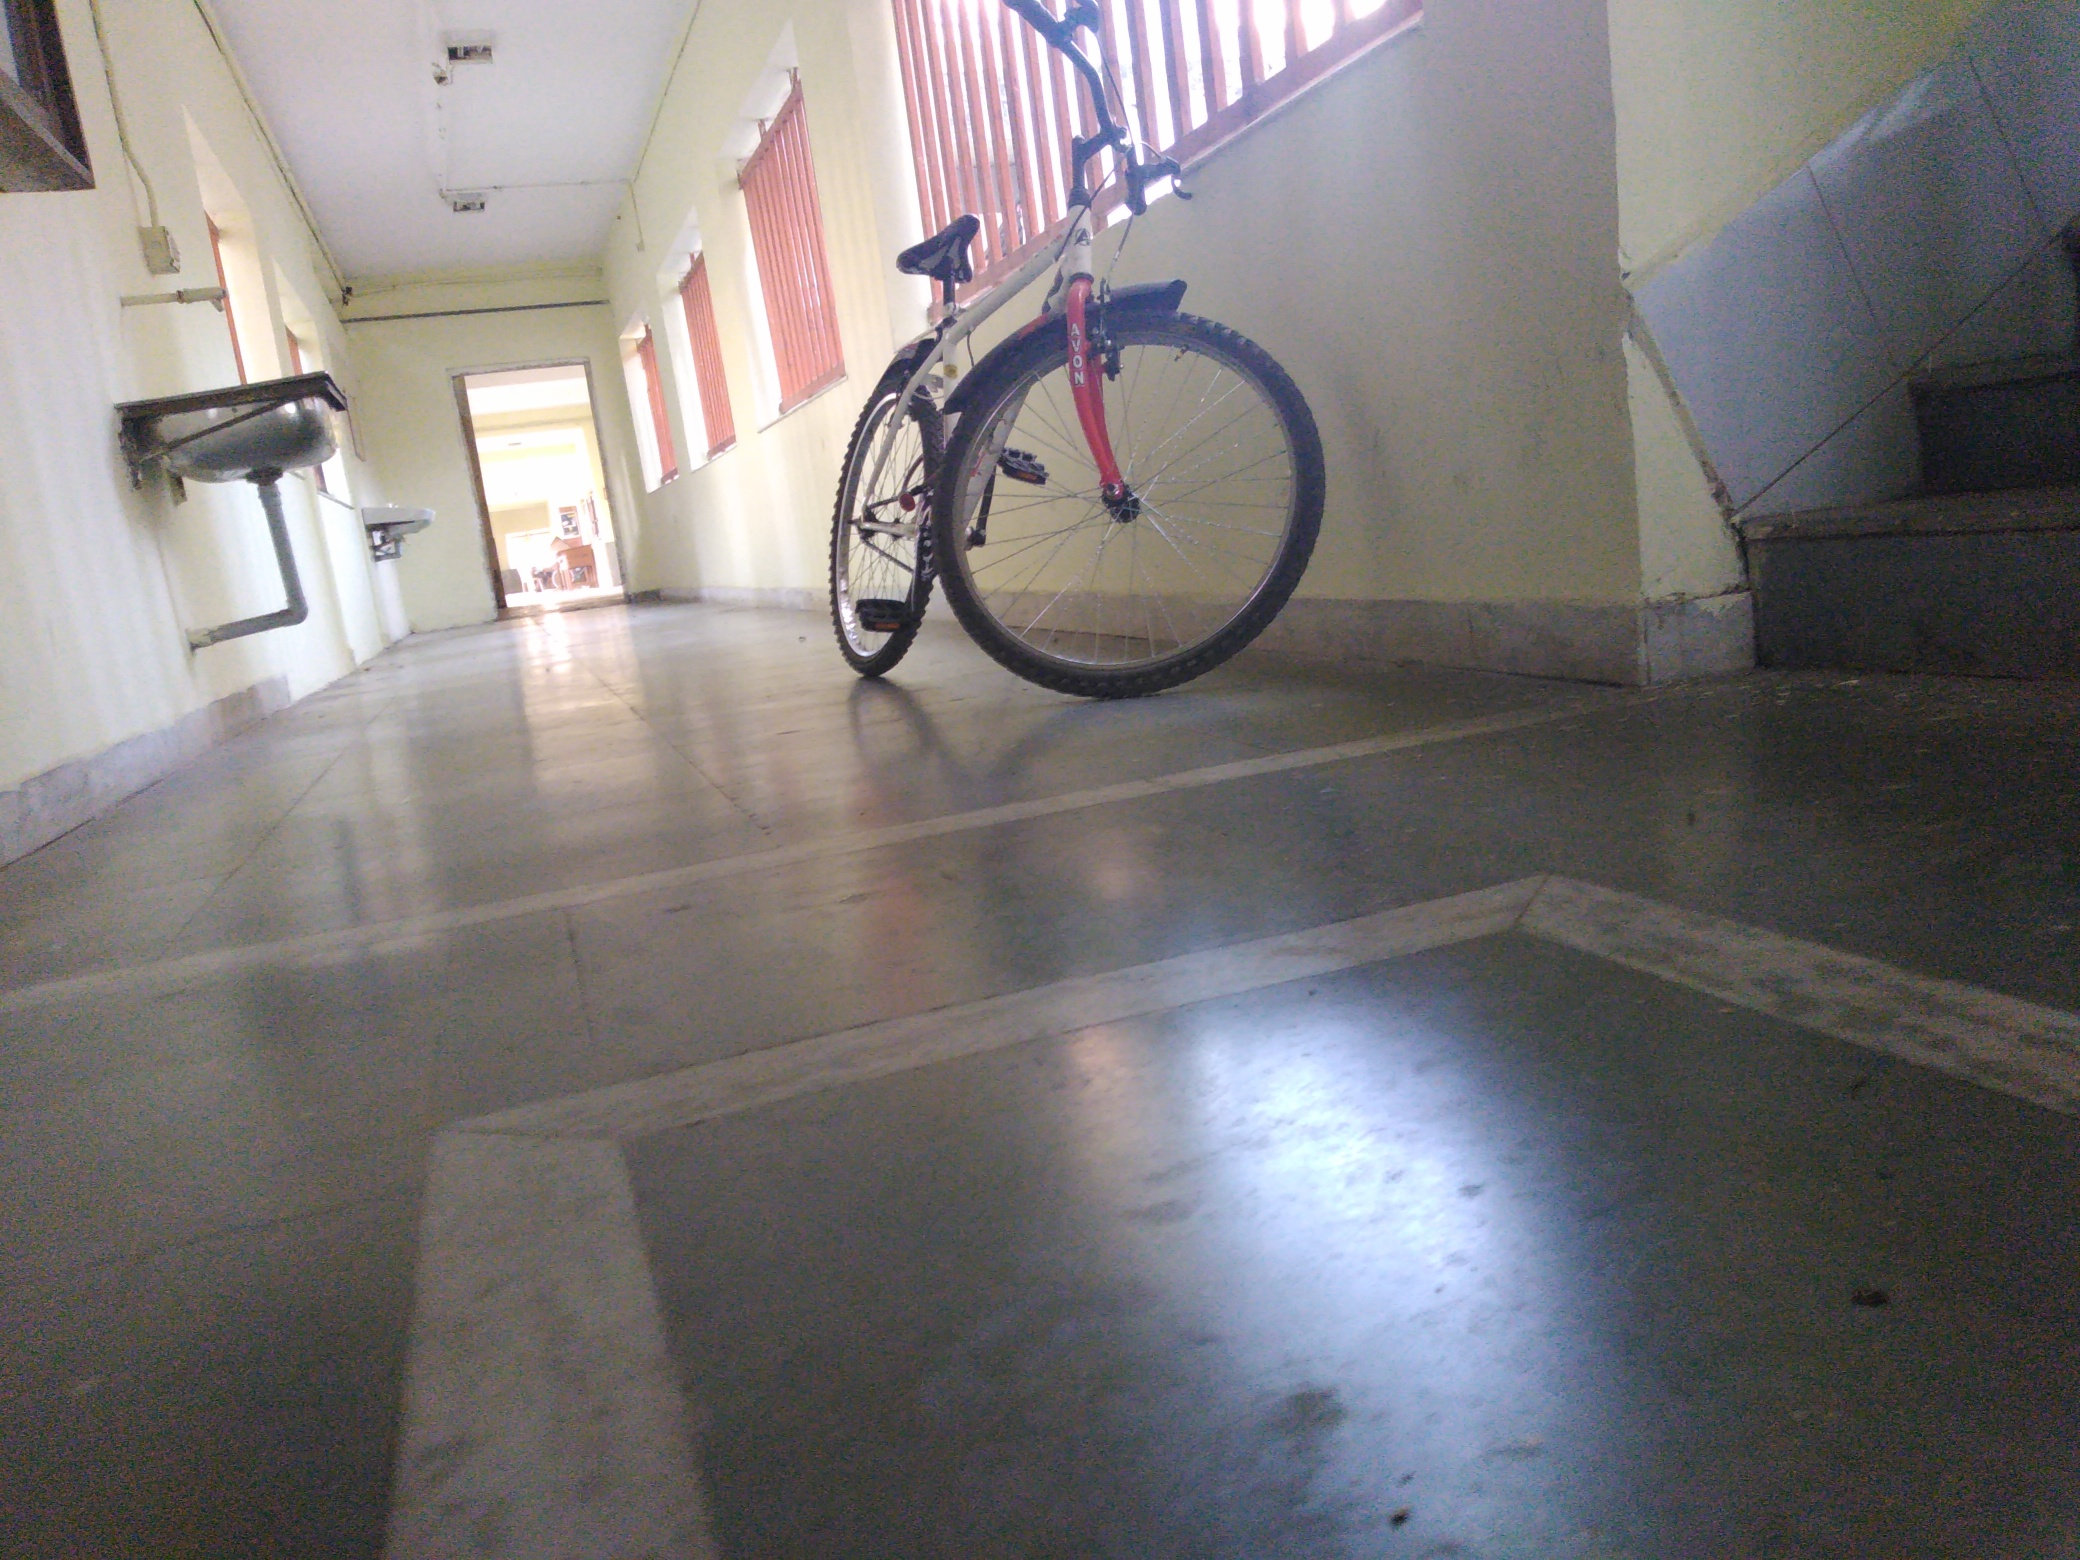stairs_up: (1734, 351, 2072, 692)
